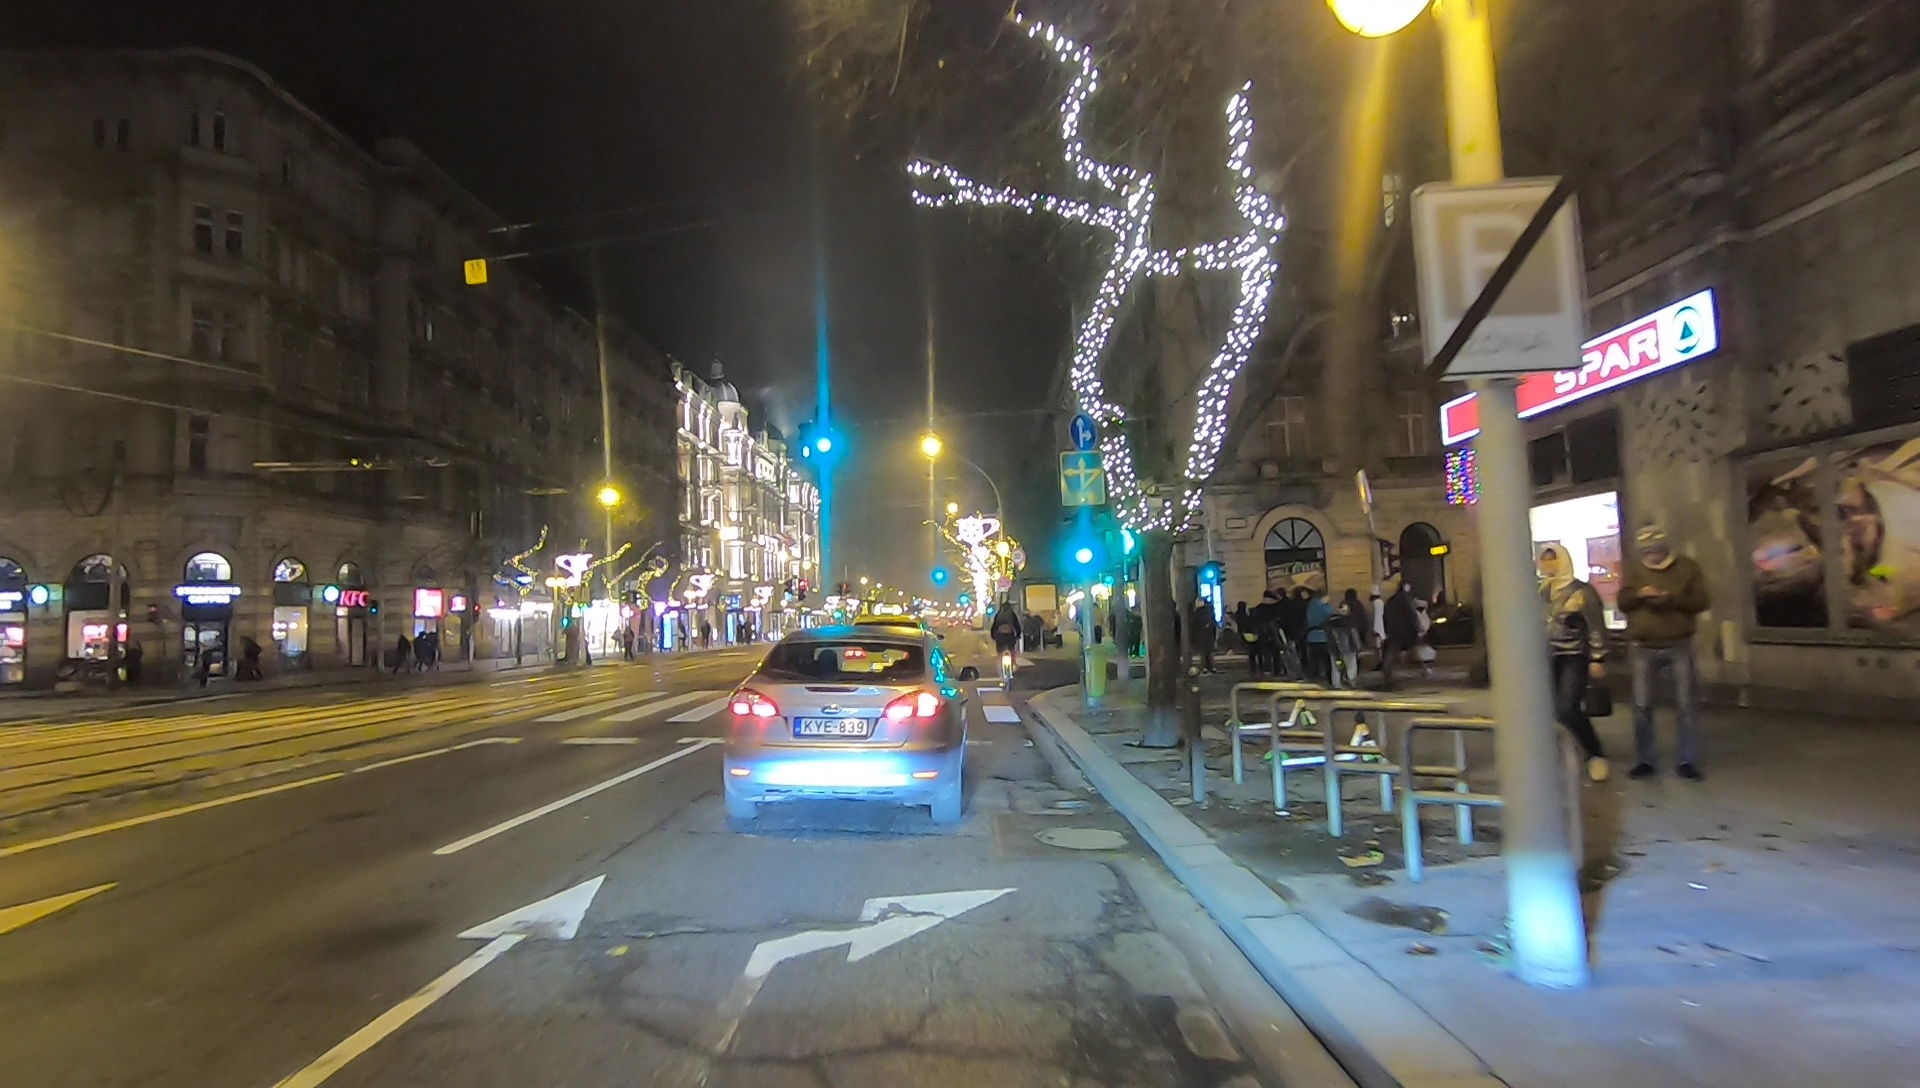person: (1626, 524, 1714, 774), (1530, 541, 1617, 780), (1384, 580, 1432, 686), (1256, 589, 1295, 682), (1305, 588, 1331, 685), (1338, 587, 1362, 675), (1193, 597, 1220, 674), (239, 635, 262, 678), (417, 632, 441, 674), (394, 634, 409, 676), (623, 625, 636, 656), (701, 619, 710, 645)
